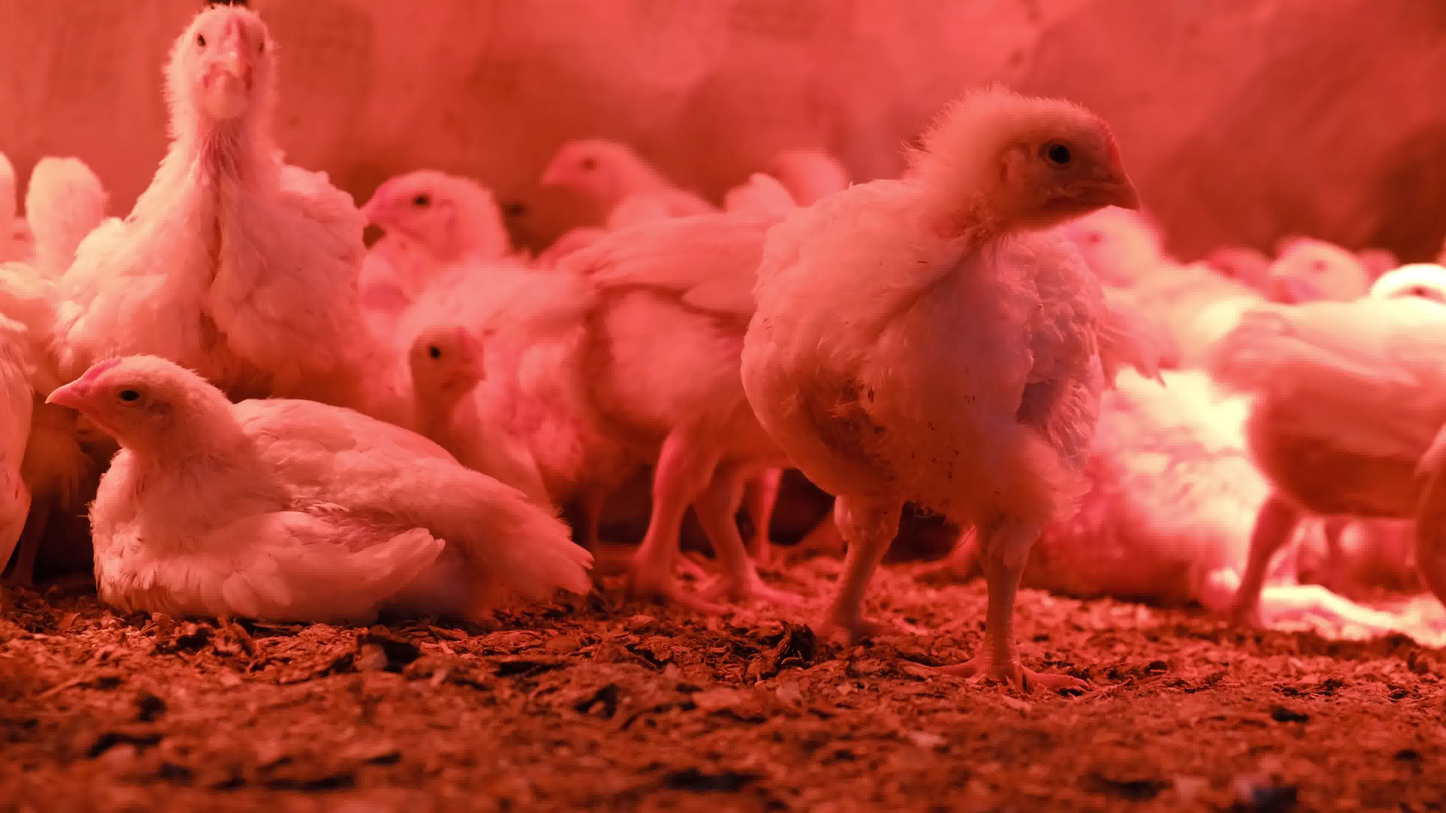AbNormal: (40, 356, 599, 614), (1051, 369, 1381, 625), (366, 324, 579, 589)
Normal: (739, 87, 1156, 703), (61, 2, 368, 401), (546, 190, 834, 605), (1222, 283, 1446, 637), (356, 166, 513, 316), (539, 136, 712, 219), (21, 155, 116, 271), (1064, 213, 1168, 297), (1264, 238, 1365, 298)
